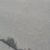others: (1, 31, 21, 49)
